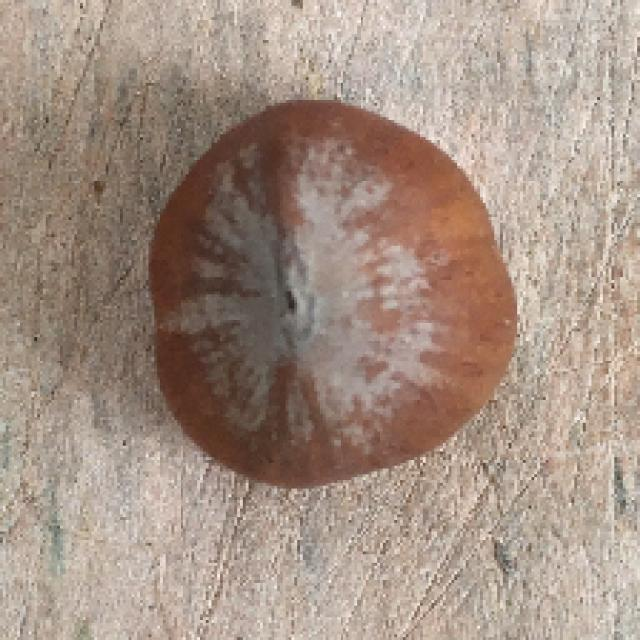qualityHazelnut: (129, 99, 520, 484)
